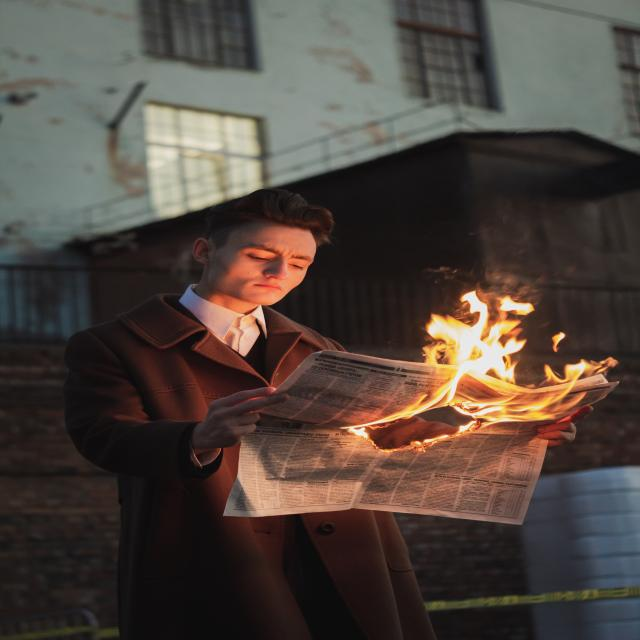fire: (328, 279, 604, 442)
